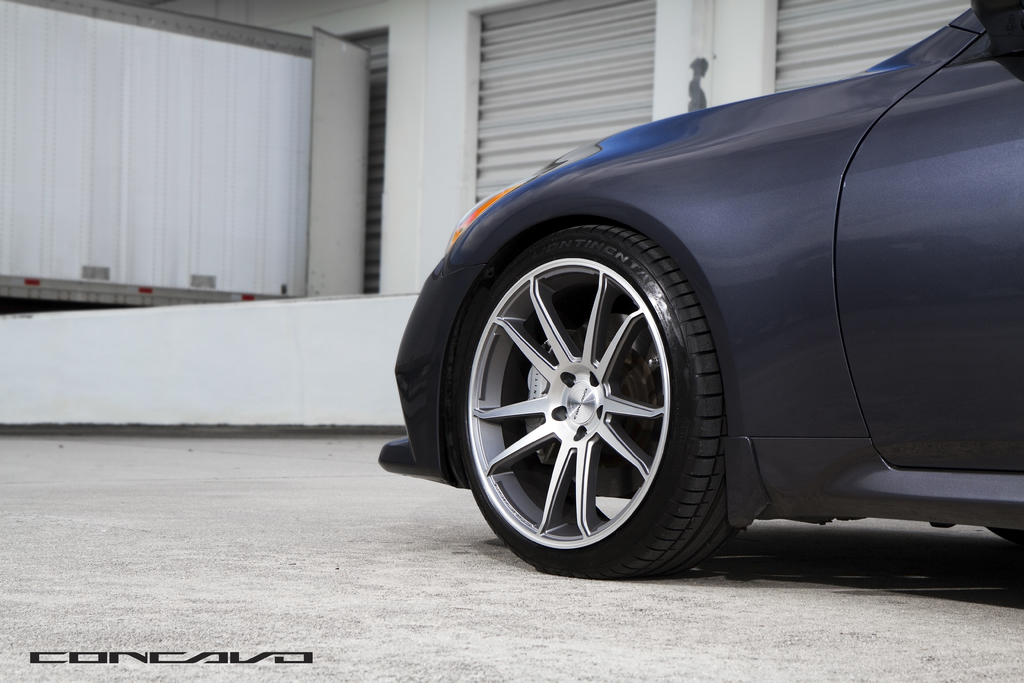Car: (348, 9, 1006, 599)
